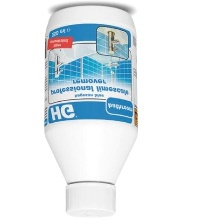cleaning_solution: (40, 1, 141, 221)
